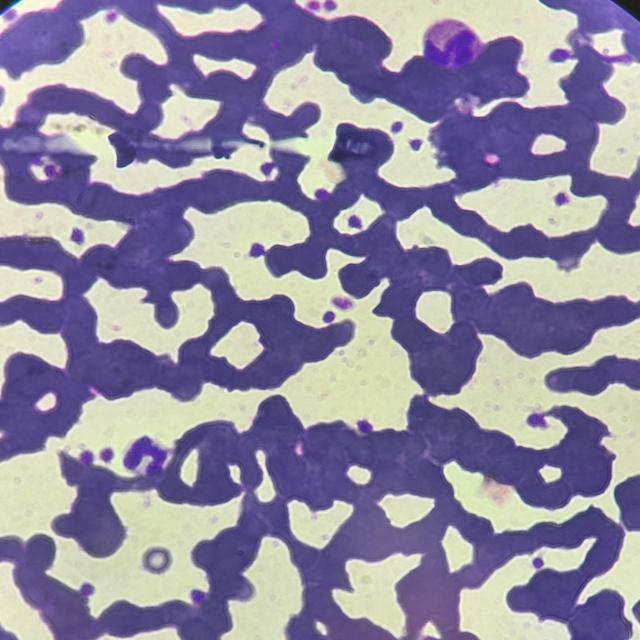Neutrofilo: (426, 17, 485, 72), (117, 438, 176, 481)
